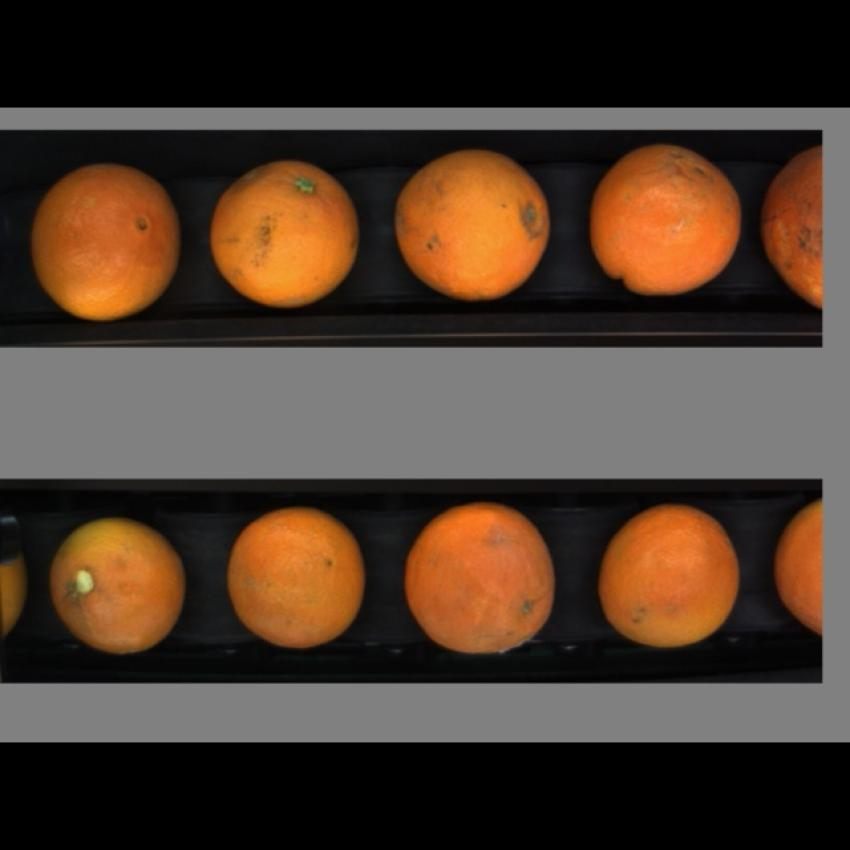Mal estado: (386, 147, 560, 307), (24, 161, 190, 327), (398, 501, 568, 657), (587, 142, 747, 306), (205, 158, 365, 308), (595, 499, 744, 648), (42, 514, 193, 656), (222, 508, 372, 647), (759, 141, 822, 314), (768, 499, 823, 640)
